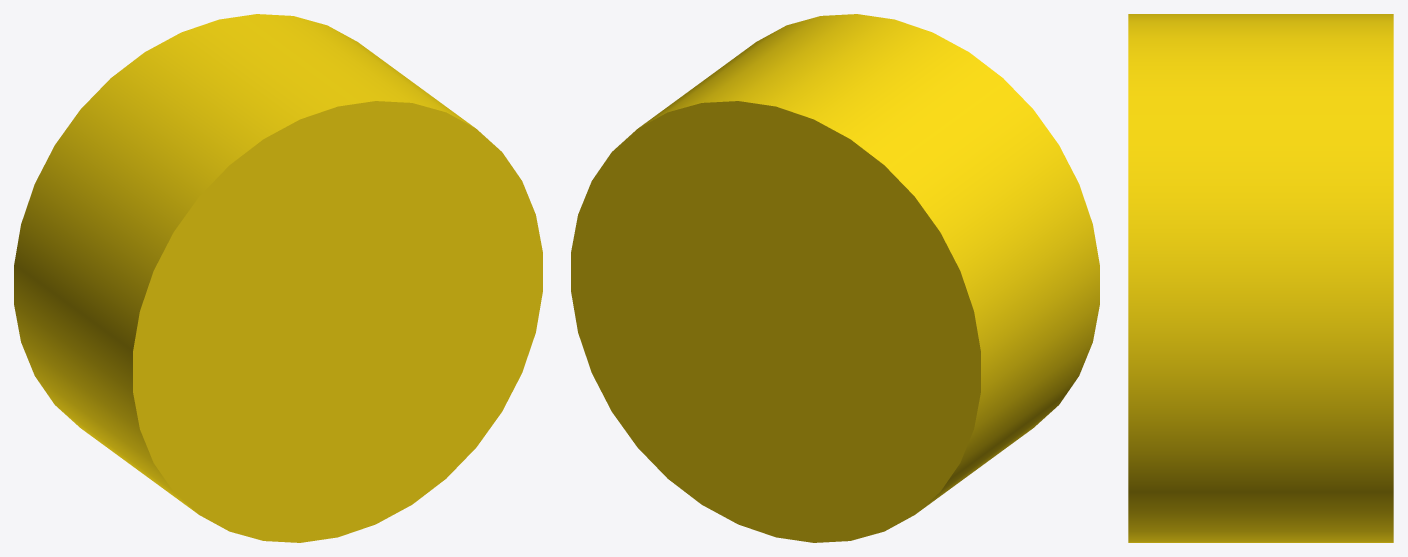
File: 1323 - wheel.gltf
3 views of the same model, side by side, from view 1: azimuth 30°, elevation 25°; view 2: azimuth 150°, elevation 25°; view 3: azimuth 270°, elevation 25° (orthographic). The views are drawn at different scales.
Visible parts, largest first — view 1: wheel; view 2: wheel; view 3: wheel.
Boxes of the visible parts, left/top/right/bottom form: wheel: left=14, top=14, right=542, bottom=542; wheel: left=571, top=14, right=1099, bottom=542; wheel: left=1128, top=14, right=1393, bottom=542.
Bounding box in the file's own units: 0.1012 × 0.1016 × 0.0508.
